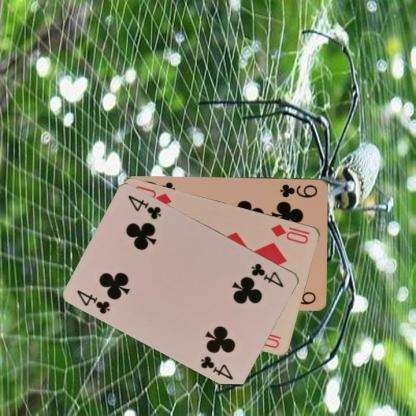10d: (268, 221, 312, 245)
4c: (74, 287, 112, 316), (249, 260, 286, 289)
9c: (277, 181, 319, 199)
